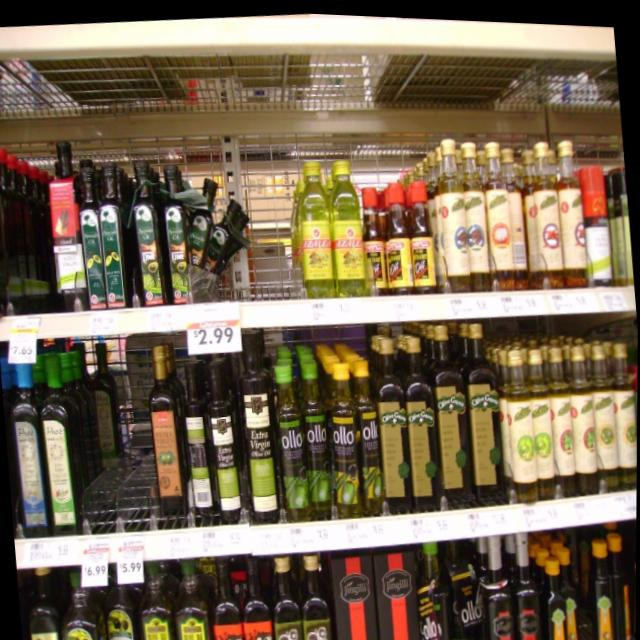q97: (236, 324, 288, 522), (200, 347, 252, 525), (179, 348, 222, 512)
